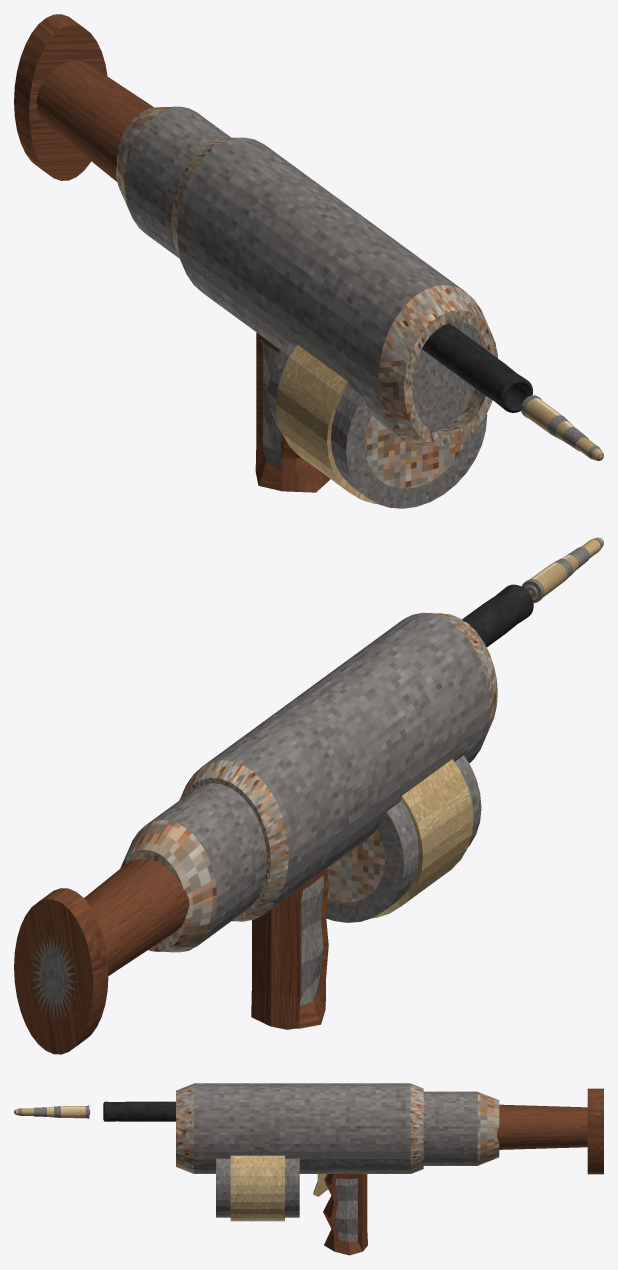
File: MachineGun+bullet.fbx
The picture shows the model from 3 angles, top to bottom: view 1: azimuth 30°, elevation 25°; view 2: azimuth 150°, elevation 25°; view 3: azimuth 270°, elevation 25°; orthographic projection. The views are drawn at different scales.
Visible parts, largest first — view 1: M.frame, M.Drum, Stock, M.Recoil, M.Handel, M.Barell, Bullet shell; view 2: M.frame, Stock, M.Drum, M.Recoil, M.Handel, M.Barell, Bullet shell; view 3: M.frame, M.Recoil, M.Drum, Stock, M.Handel, M.Barell, Bullet shell.
Boxes of the visible parts, x1,y1,x2,y2 form: M.frame: [171, 137, 497, 446]; M.Drum: [268, 341, 487, 508]; Stock: [14, 14, 153, 181]; M.Recoil: [116, 106, 231, 257]; M.Handel: [255, 332, 330, 492]; M.Barell: [422, 323, 532, 412]; Bullet shell: [521, 395, 588, 451]; M.frame: [179, 612, 497, 921]; Stock: [14, 859, 189, 1054]; M.Drum: [326, 755, 481, 922]; M.Recoil: [120, 783, 266, 952]; M.Handel: [251, 868, 328, 1029]; M.Barell: [462, 584, 533, 647]; Bullet shell: [521, 547, 589, 603]; M.frame: [176, 1083, 423, 1173]; M.Recoil: [423, 1091, 499, 1165]; M.Drum: [216, 1155, 299, 1221]; Stock: [496, 1088, 603, 1174]; M.Handel: [323, 1173, 367, 1255]; M.Barell: [103, 1101, 175, 1121]; Bullet shell: [34, 1105, 90, 1118].
Bounding box in the file's own units: 56.51 × 110 × 352.
Materials: 6 (5 with a texture image).
